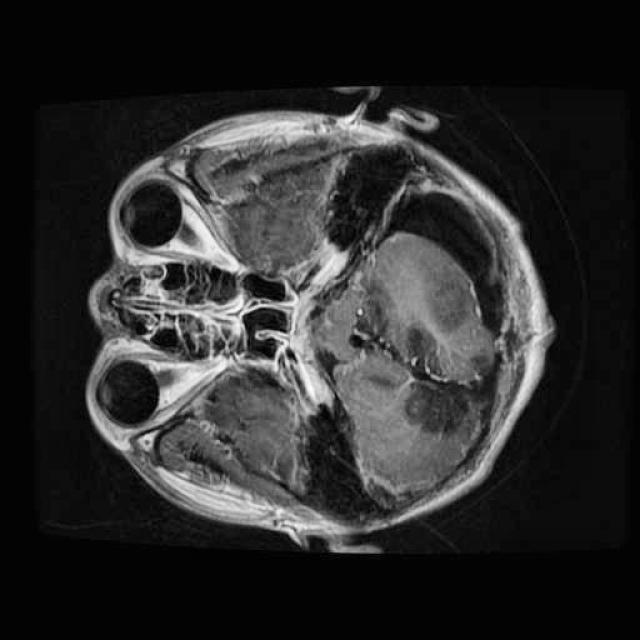Tumor: (382, 312, 512, 456)
